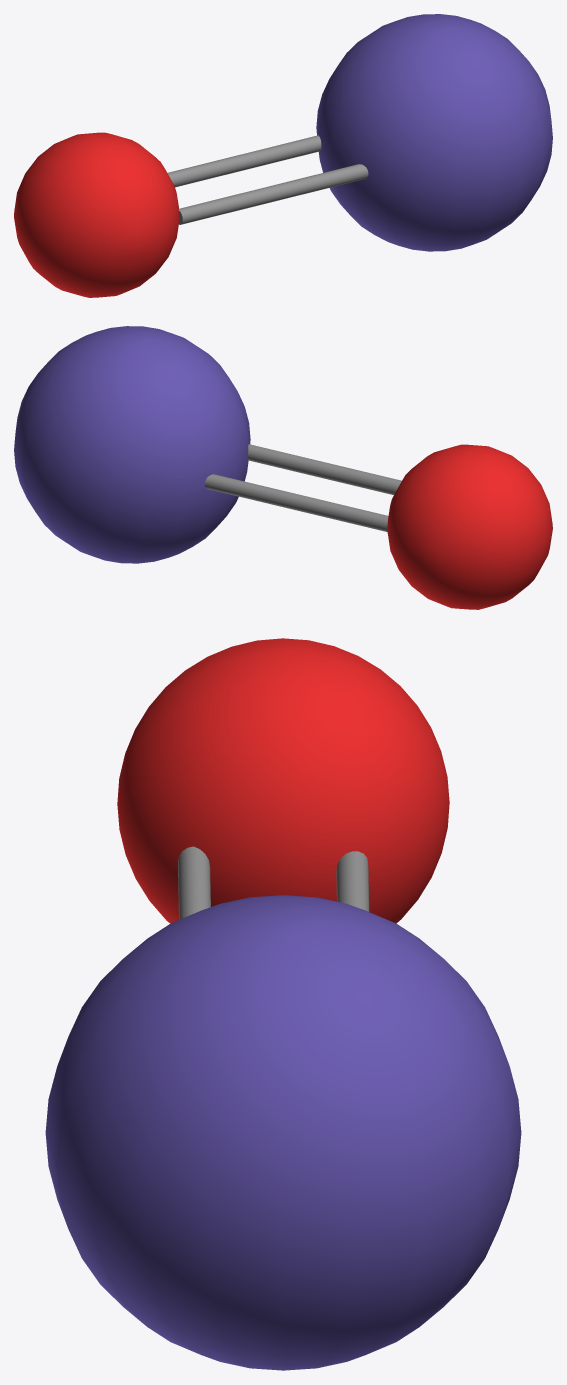
Rendered from MgO.fbx.
The picture shows the model from 3 angles, top to bottom: view 1: azimuth 30°, elevation 25°; view 2: azimuth 150°, elevation 25°; view 3: azimuth 270°, elevation 25°; orthographic projection. The views are drawn at different scales.
Visible parts, largest first — view 1: MgO; view 2: MgO; view 3: MgO.
Part boxes in pixels (<box>): MgO: <box>14,14,552,297</box>; MgO: <box>14,326,552,609</box>; MgO: <box>45,638,521,1370</box>.
Size of the model in its own units: 6.58 by 2.65 by 2.65.
